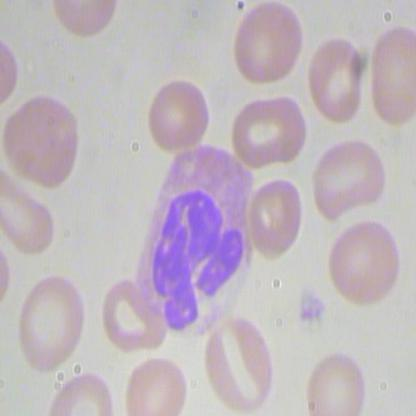RBC: (12, 270, 86, 381), (1, 94, 84, 191), (325, 211, 402, 311), (308, 131, 390, 223), (225, 1, 307, 92), (200, 316, 274, 415), (231, 90, 307, 171), (141, 74, 217, 154), (307, 29, 367, 129), (97, 275, 169, 356), (246, 178, 308, 263), (367, 23, 415, 132), (304, 342, 369, 415), (124, 354, 189, 415)
WBC: (135, 139, 272, 336)
